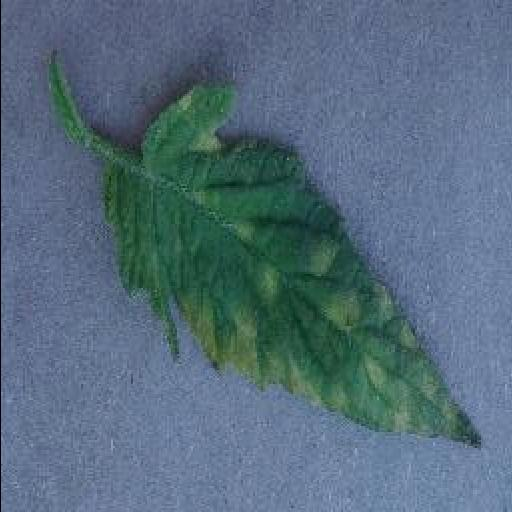disease_tomato: (100, 83, 486, 448)
